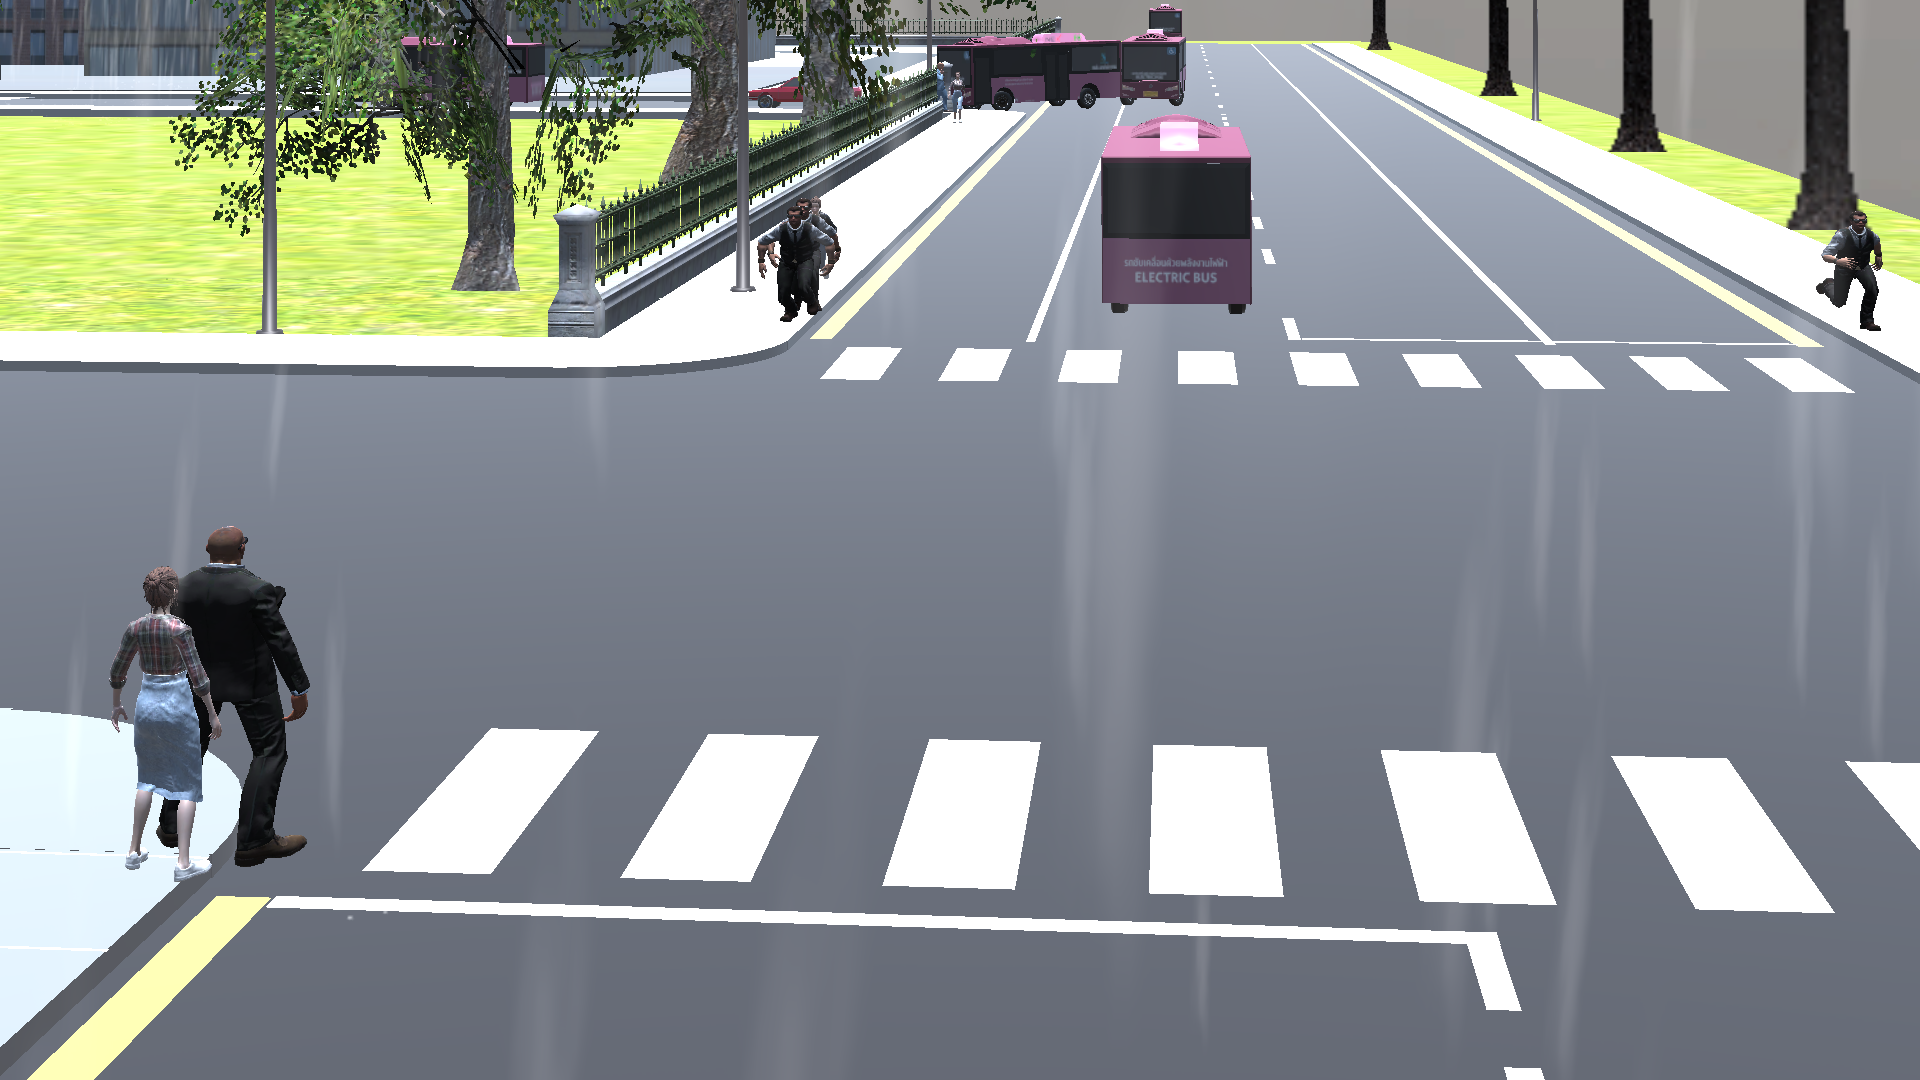pedestrian: (181, 521, 331, 869), (96, 564, 221, 887), (1807, 198, 1896, 341), (755, 207, 835, 340), (939, 64, 968, 129), (786, 192, 817, 212)
